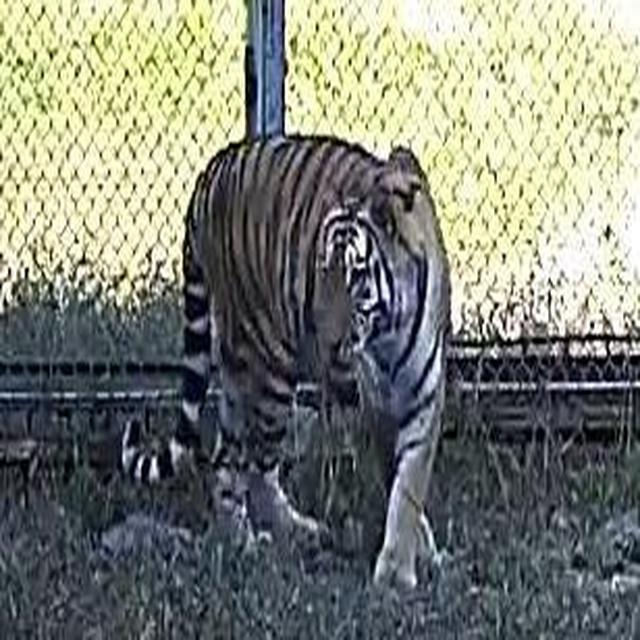tiger: (113, 130, 455, 593)
